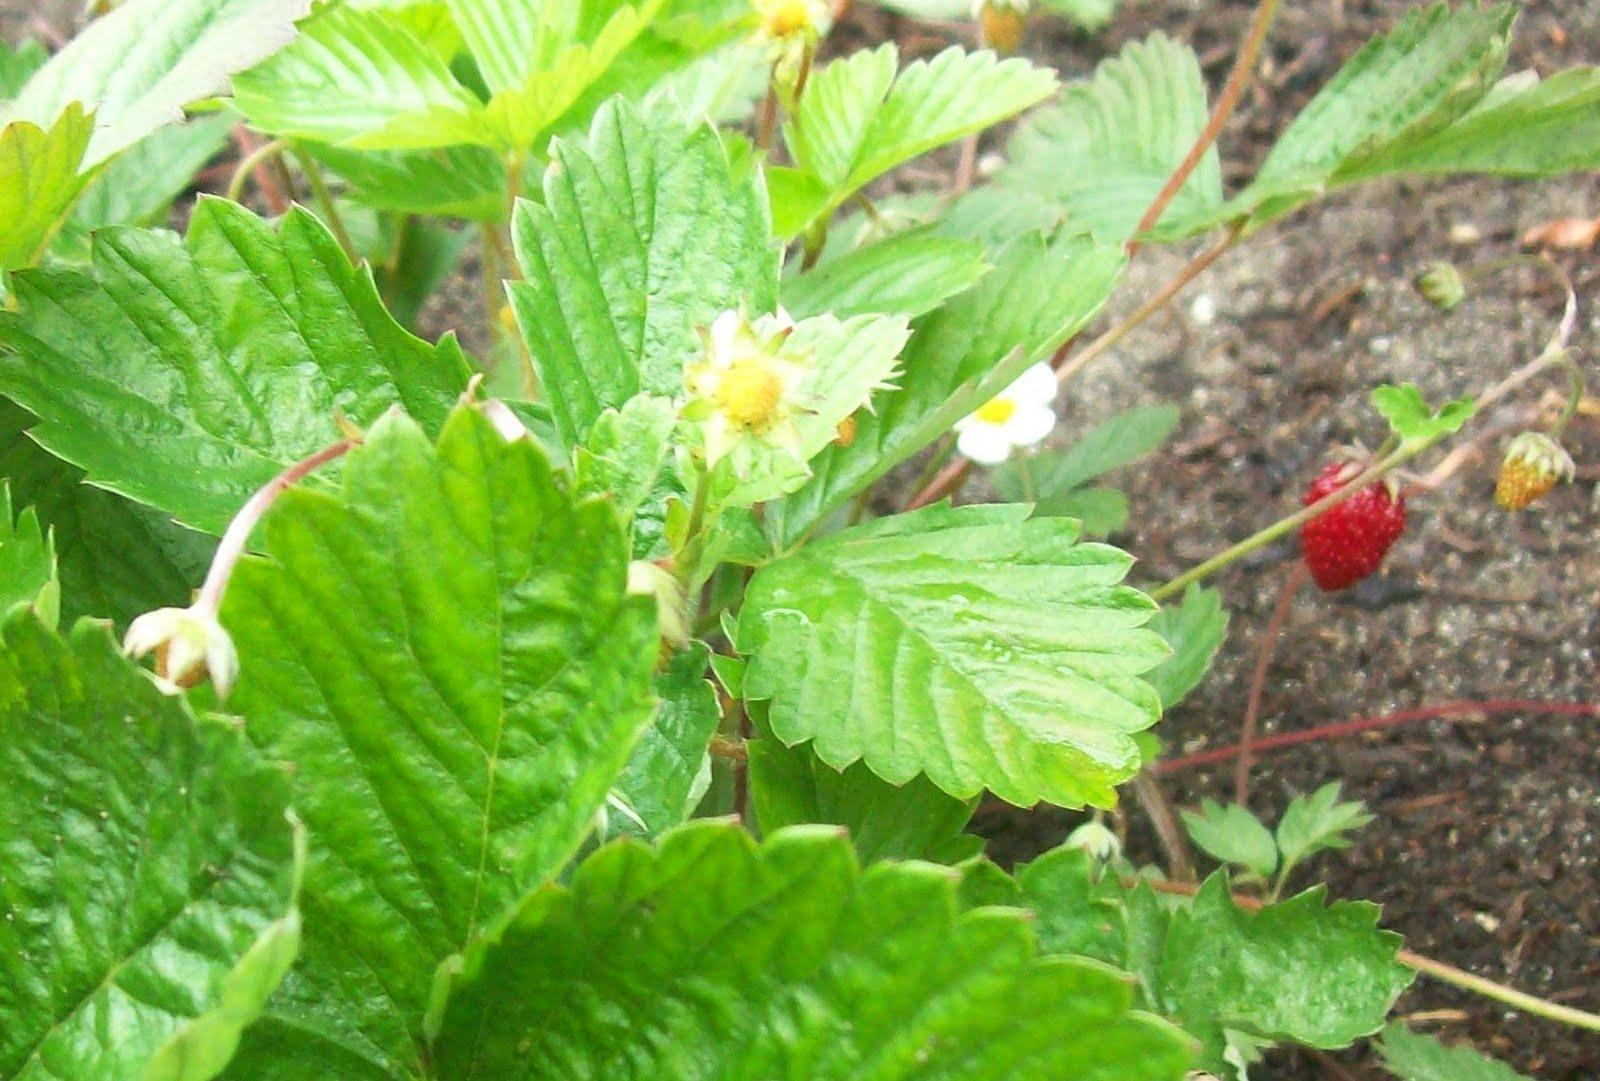Strawberry leaf: (216, 395, 615, 1019), (1, 201, 494, 554), (710, 501, 1170, 826), (506, 81, 801, 458)
